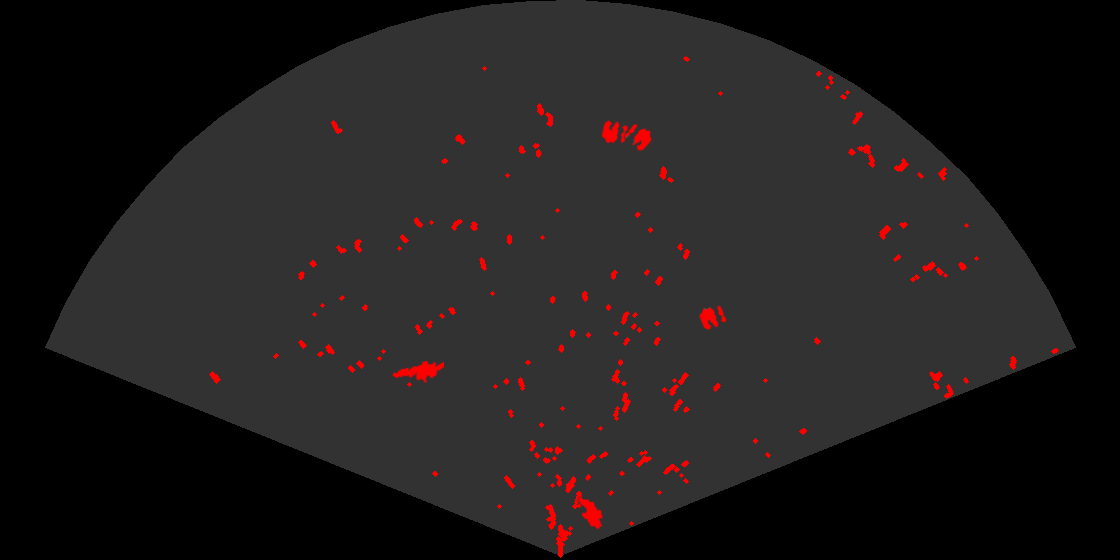AUV: (577, 496, 604, 531)
ball: (623, 123, 653, 152), (698, 304, 728, 332), (600, 118, 629, 145)
frogman: (389, 359, 444, 385)
